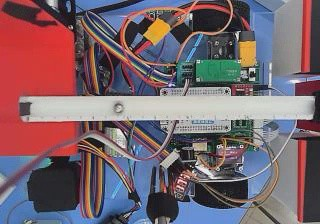ironball: (112, 103, 124, 112)
